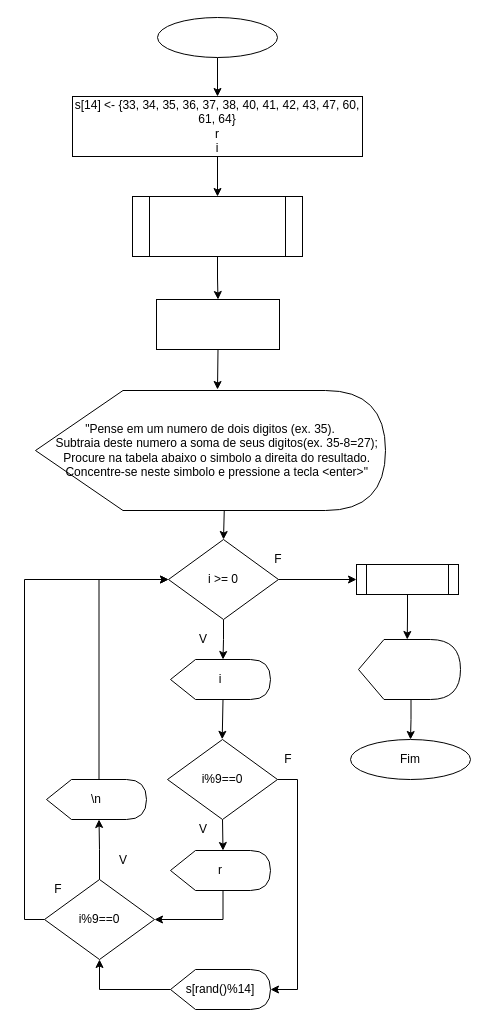
The diagram is 488 pixels wide and 1027 high, and some of its shapes have lost their labels. The shapes that lost their labels are listed below. From the top down, each one's centre as x and y in pixels, then its label:
pixel 217 37: Início
pixel 217 226: srand( time( NULL ) )
pixel 218 324: r <- s[rand()%14]
pixel 407 579: getchar()
pixel 409 669: "O simbolo em que voce se concentrou" r
